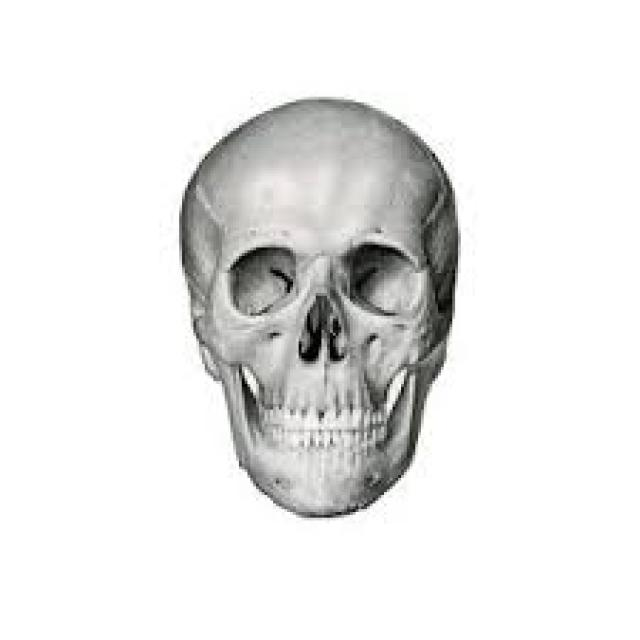skull: (172, 96, 466, 519)
